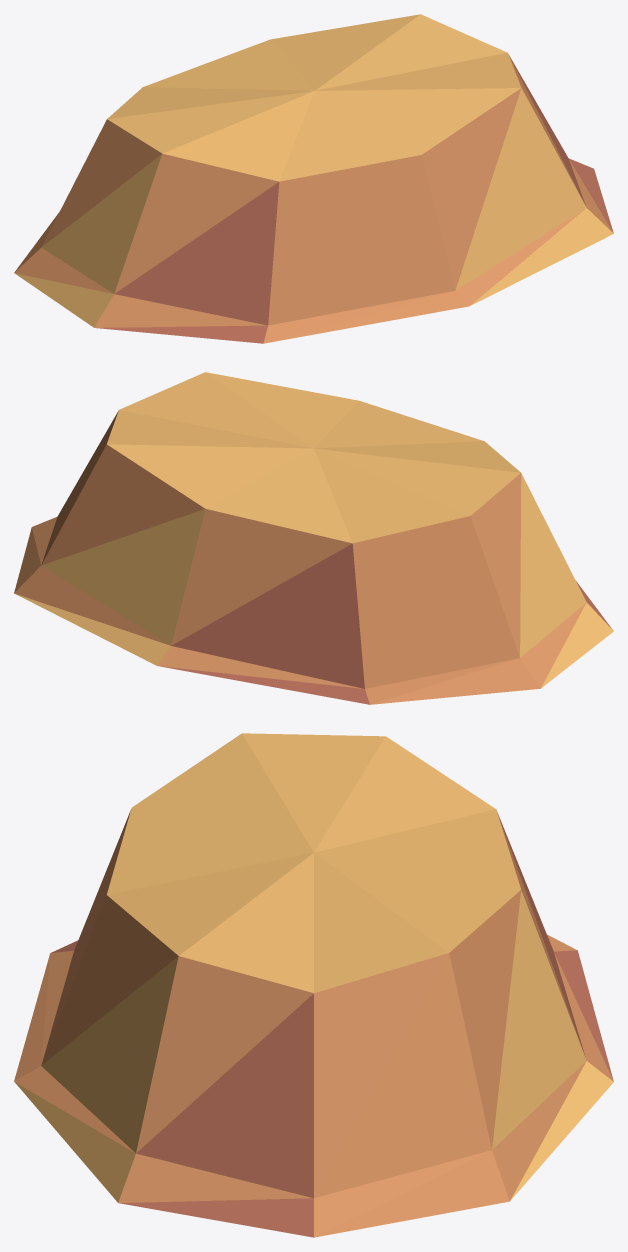
3 views of the same model, one above another, from view 1: azimuth 30°, elevation 25°; view 2: azimuth 150°, elevation 25°; view 3: azimuth 270°, elevation 25° (orthographic). The views are drawn at different scales.
Parts seen in each view (by area): view 1: 错层台地_4.001; view 2: 错层台地_4.001; view 3: 错层台地_4.001.
Part boxes in pixels (bbox=[...]): 错层台地_4.001: bbox=[14, 14, 613, 343]; 错层台地_4.001: bbox=[14, 372, 613, 704]; 错层台地_4.001: bbox=[14, 733, 613, 1237].
Size of the model in its own units: 0.8939 by 0.2338 by 0.6283.
